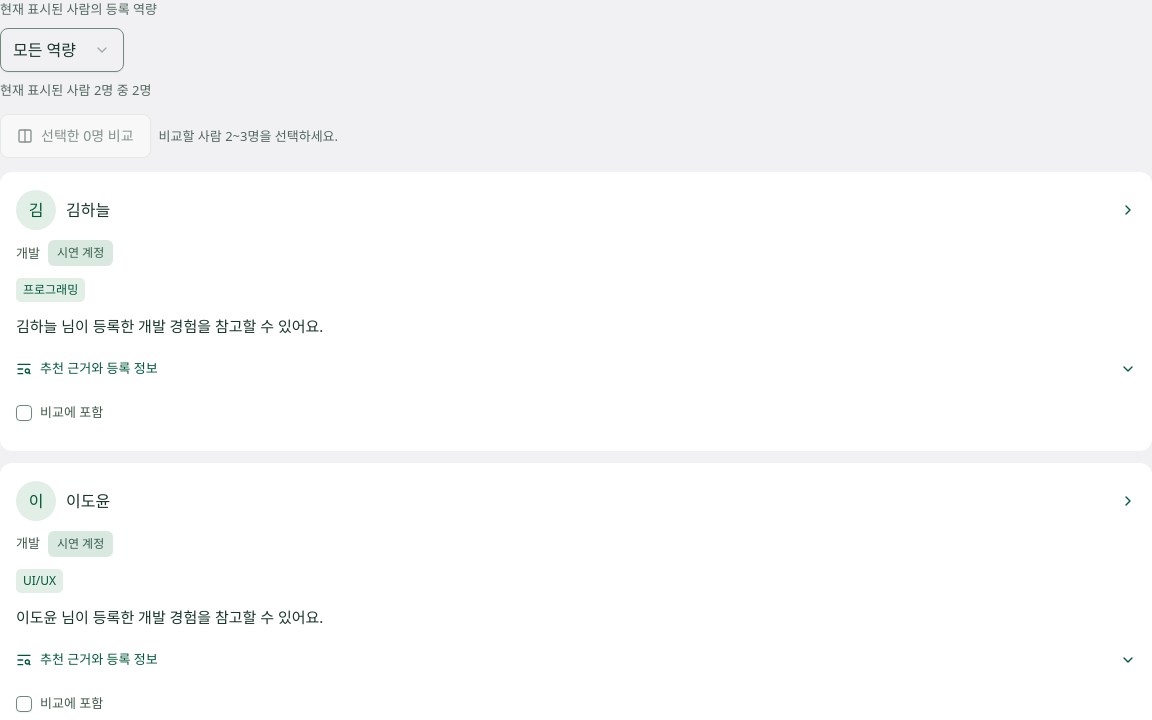
Test: AiResultCards › filters only displayed people by their registered skill and resets comparison selection
Click the checkbox named "김하늘 비교에 포함".
click(24, 413)  # box [16,405,32,421]
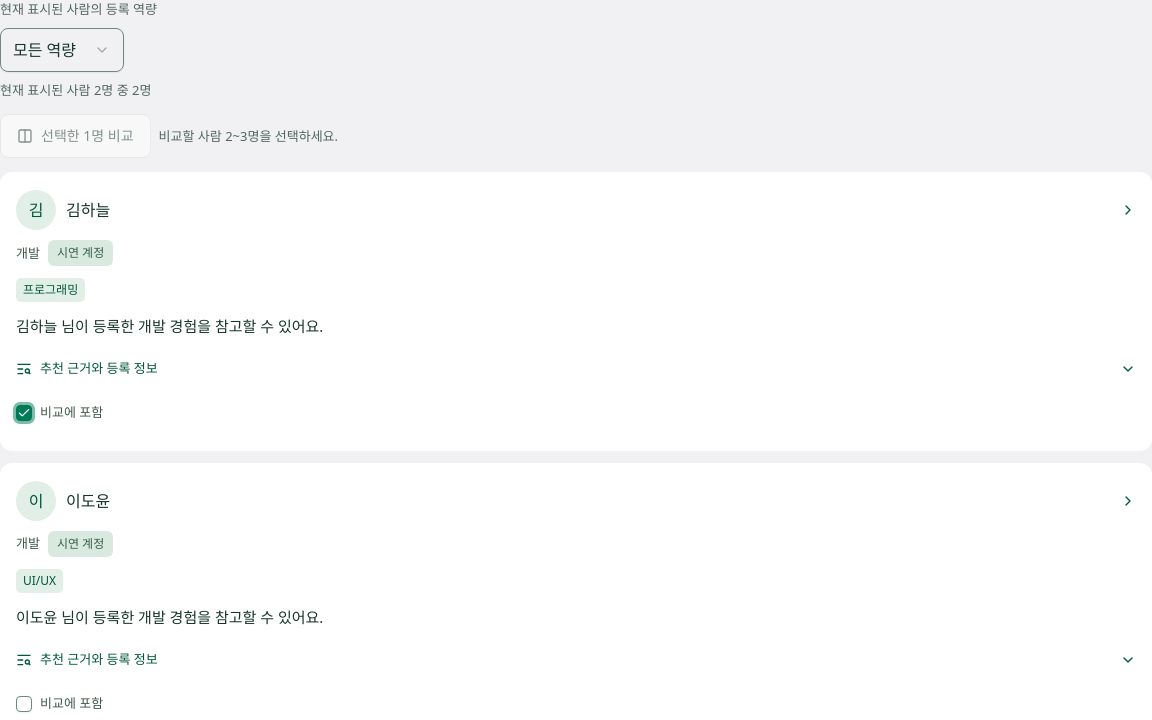
Click the checkbox named "이도윤 비교에 포함".
click(24, 704)  # box [16,696,32,712]
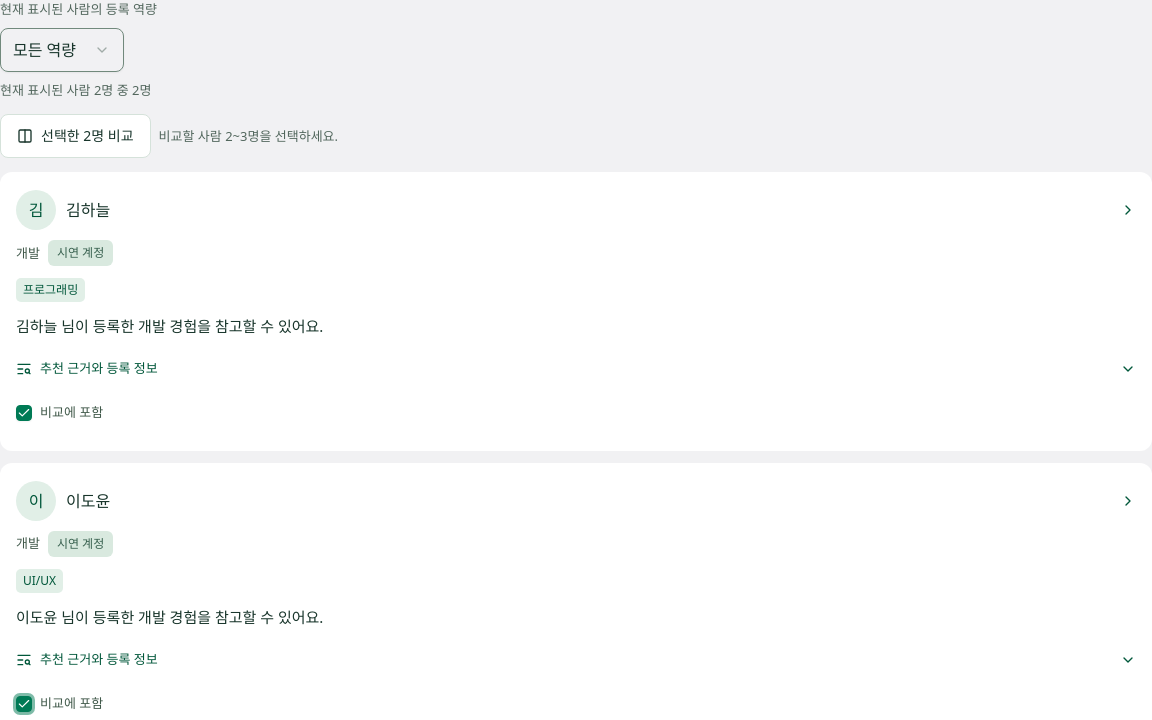
Click the button "선택한 2명 비교".
click(75, 136)  # box [0,114,151,158]
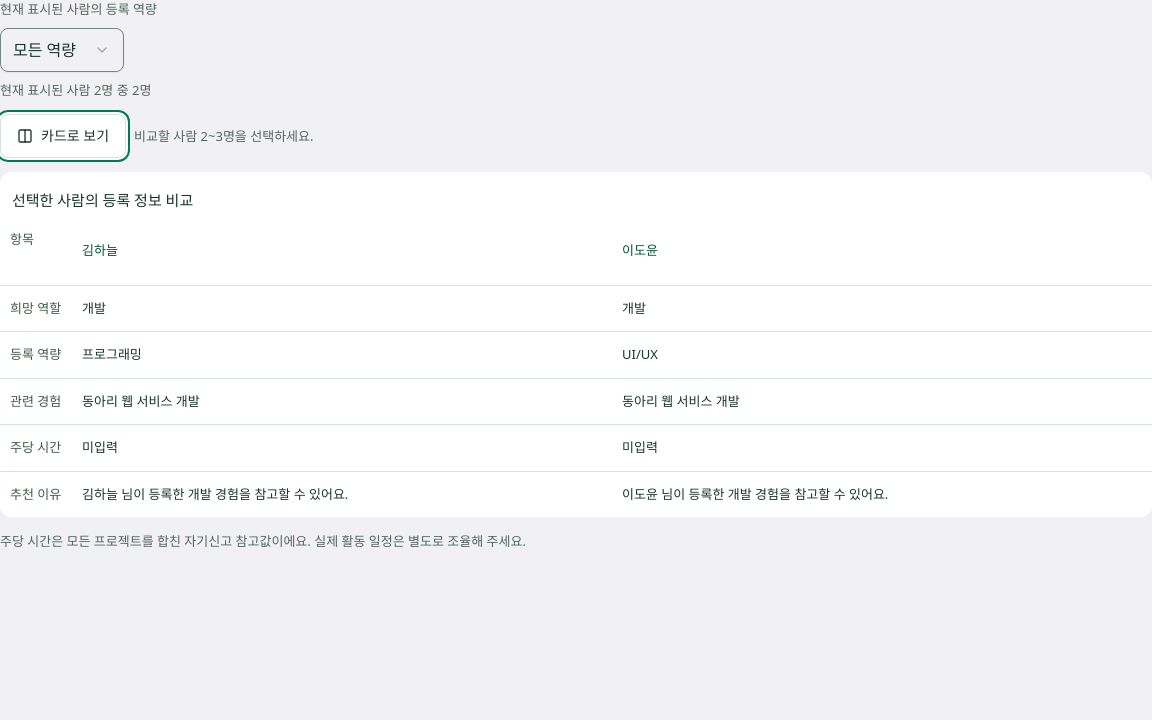
expect the table "선택한 사람의 등록 정보 비교" is shown: met, box [0,172,1151,517]
Select "프로그래밍" in the dropdown labelled "현재 표시된 사람의 등록 역량" at (62, 50), box [0,28,124,72]
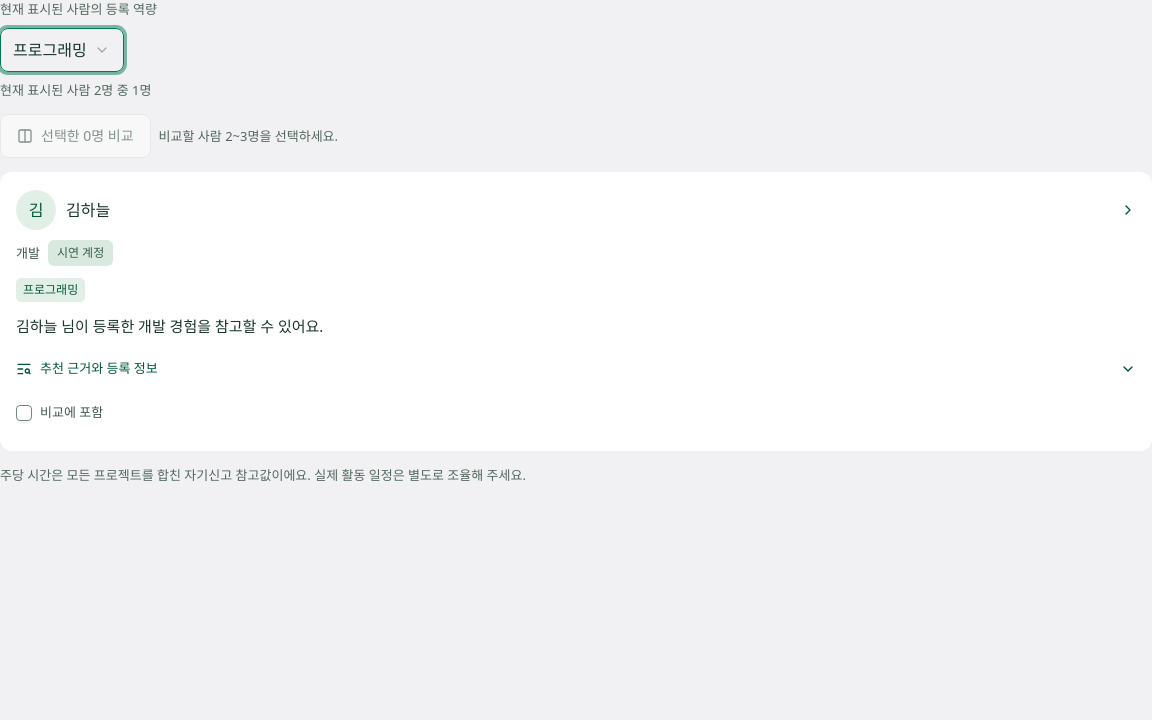
expect the link "이도윤" is gone: met
expect the element "김하늘" is shown: met, box [0,172,1151,451]
expect the table is gone: met
